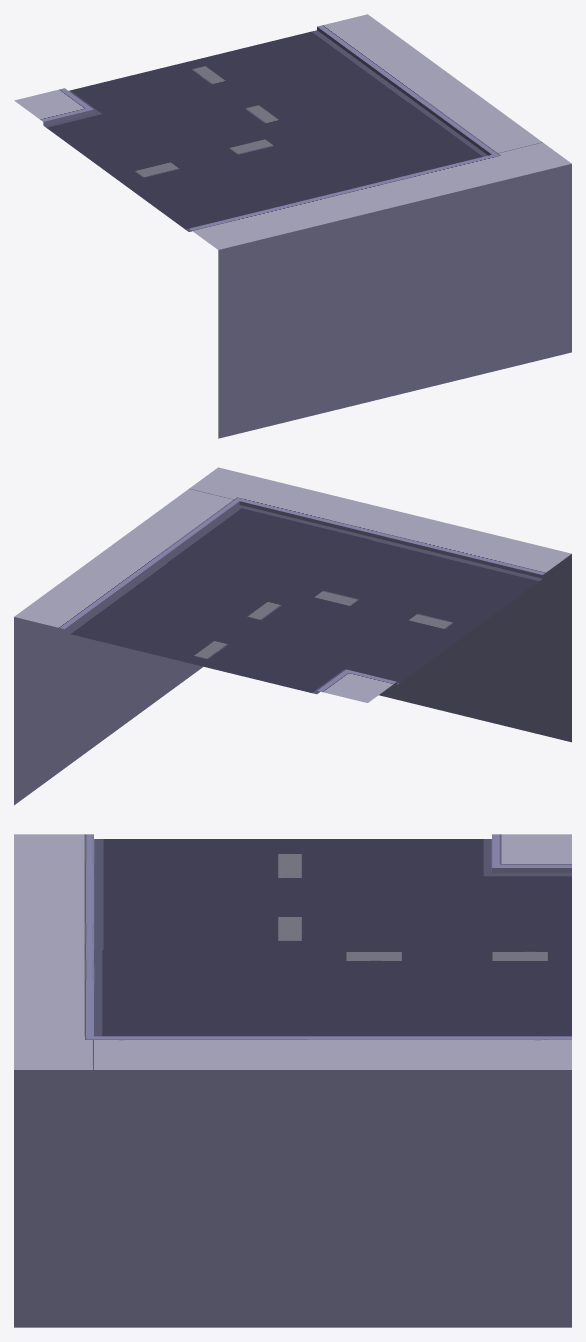
File: block_3.fbx
3 views of the same model, one above another, from view 1: azimuth 30°, elevation 25°; view 2: azimuth 150°, elevation 25°; view 3: azimuth 270°, elevation 25° (orthographic). The views are drawn at different scales.
Parts seen in each view (by area): view 1: Block_3; view 2: Block_3; view 3: Block_3.
Boxes of the visible parts, <box> form: Block_3: <box>14,14,571,438</box>; Block_3: <box>14,467,571,805</box>; Block_3: <box>14,834,571,1327</box>.
Size of the model in its own units: 20 by 10.19 by 20.
1 material, 1 textured.
